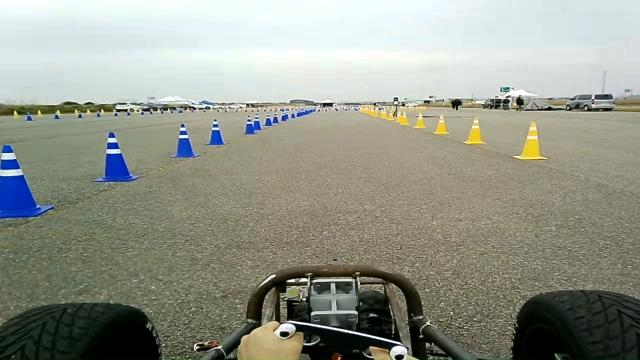blue cone: (0, 144, 54, 218), (92, 131, 140, 182), (170, 123, 200, 158), (205, 118, 228, 145), (242, 114, 256, 135), (252, 114, 262, 131), (263, 113, 273, 126), (271, 113, 279, 124), (281, 113, 288, 121)
yellow cone: (513, 121, 547, 160), (462, 115, 486, 145), (432, 113, 450, 134), (396, 109, 410, 125), (413, 112, 426, 128)
